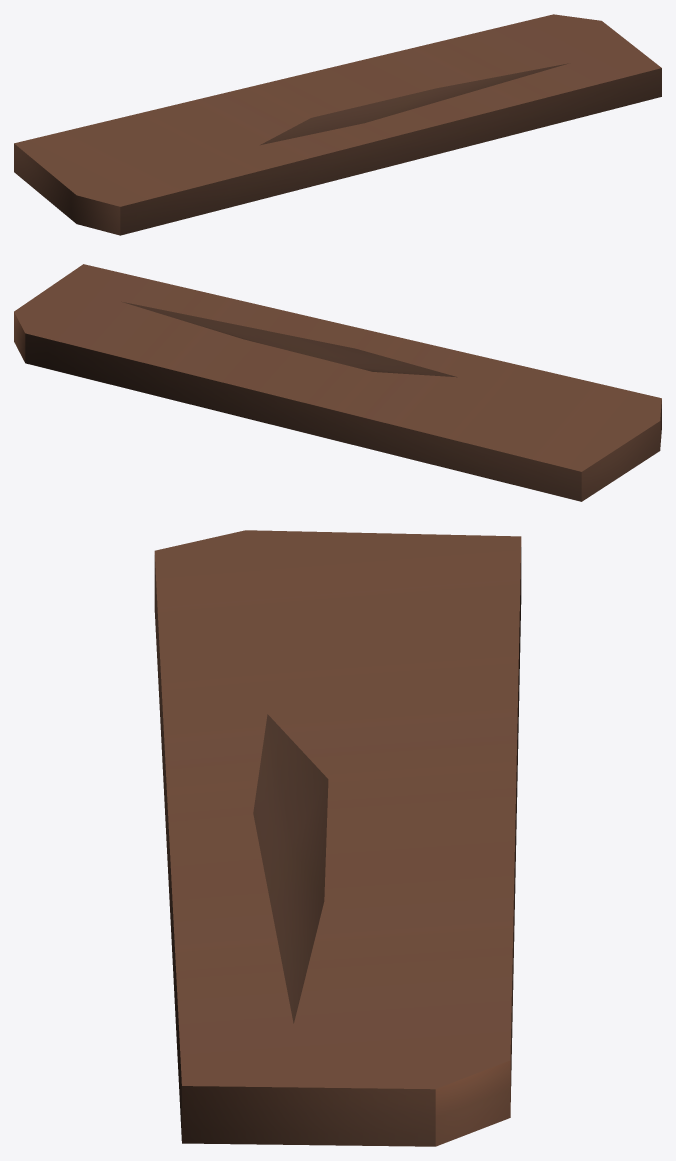
The model's file is Wooden_Plank_1A.fbx.
The picture shows the model from 3 angles, top to bottom: view 1: azimuth 30°, elevation 25°; view 2: azimuth 150°, elevation 25°; view 3: azimuth 270°, elevation 25°; orthographic projection. The views are drawn at different scales.
Parts seen in each view (by area): view 1: Wooden_Plank_1A; view 2: Wooden_Plank_1A; view 3: Wooden_Plank_1A.
Part boxes in pixels (x1,y1,x2,y2): Wooden_Plank_1A: (14,14,661,235); Wooden_Plank_1A: (14,264,661,501); Wooden_Plank_1A: (154,530,521,1146).
Size of the model in its own units: 1.87 by 0.0897 by 0.5182.
